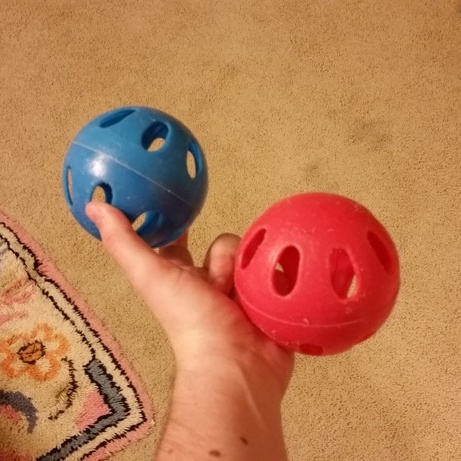ball: (232, 186, 406, 361), (56, 100, 215, 252)
